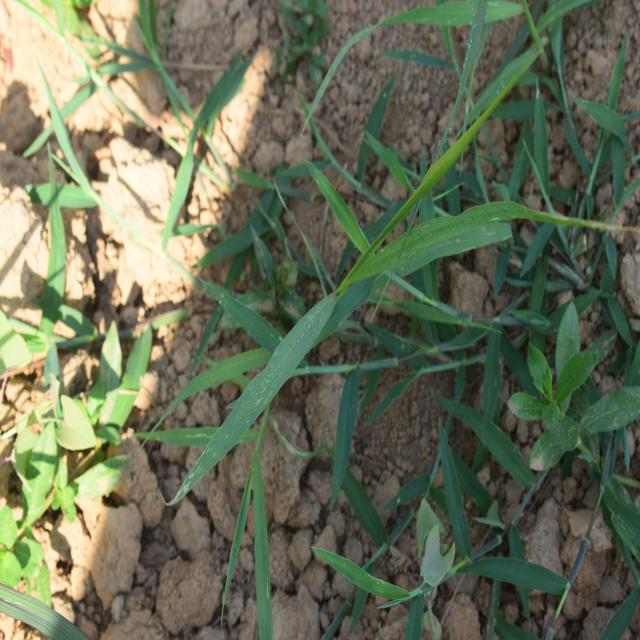green_foxtail: (183, 157, 503, 361)
